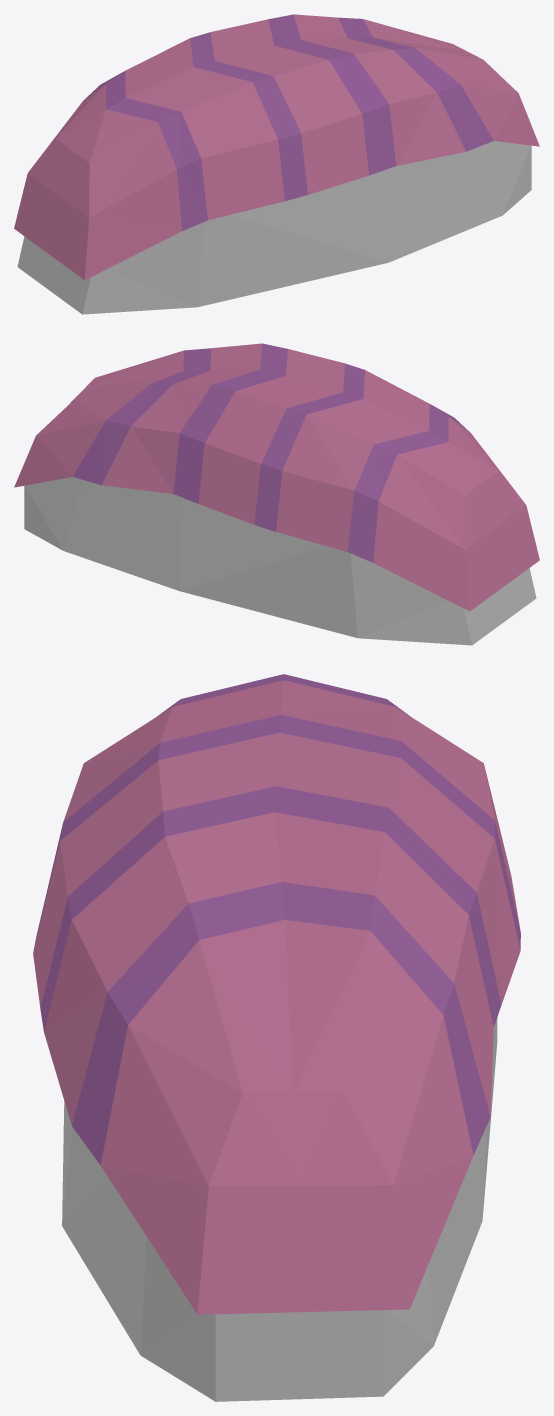
Rendered from Sushi_Nigiri2.glb.
3 views of the same model, one above another, from view 1: azimuth 30°, elevation 25°; view 2: azimuth 150°, elevation 25°; view 3: azimuth 270°, elevation 25° (orthographic). The views are drawn at different scales.
Parts seen in each view (by area): view 1: Sushi_Nigiri2; view 2: Sushi_Nigiri2; view 3: Sushi_Nigiri2.
Part boxes in pixels (x1=…): Sushi_Nigiri2: x1=14, y1=14, x2=539, y2=314; Sushi_Nigiri2: x1=14, y1=343, x2=539, y2=645; Sushi_Nigiri2: x1=33, y1=674, x2=520, y2=1401.
Bounding box in the file's own units: 0.5976 × 0.2343 × 0.2715.
